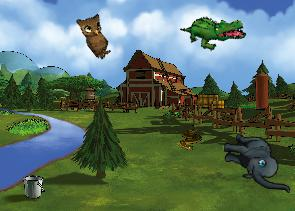crocodile: (179, 3, 248, 59)
elephant: (220, 133, 293, 193)
owl: (71, 7, 122, 61)
